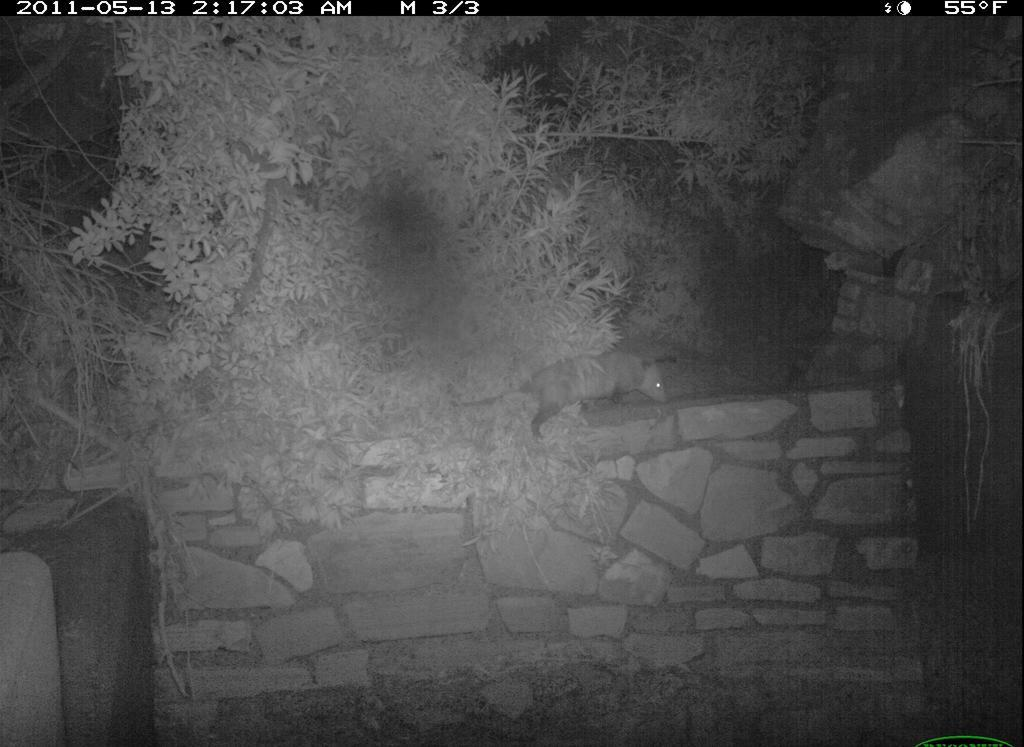opossum: (437, 349, 676, 438)
